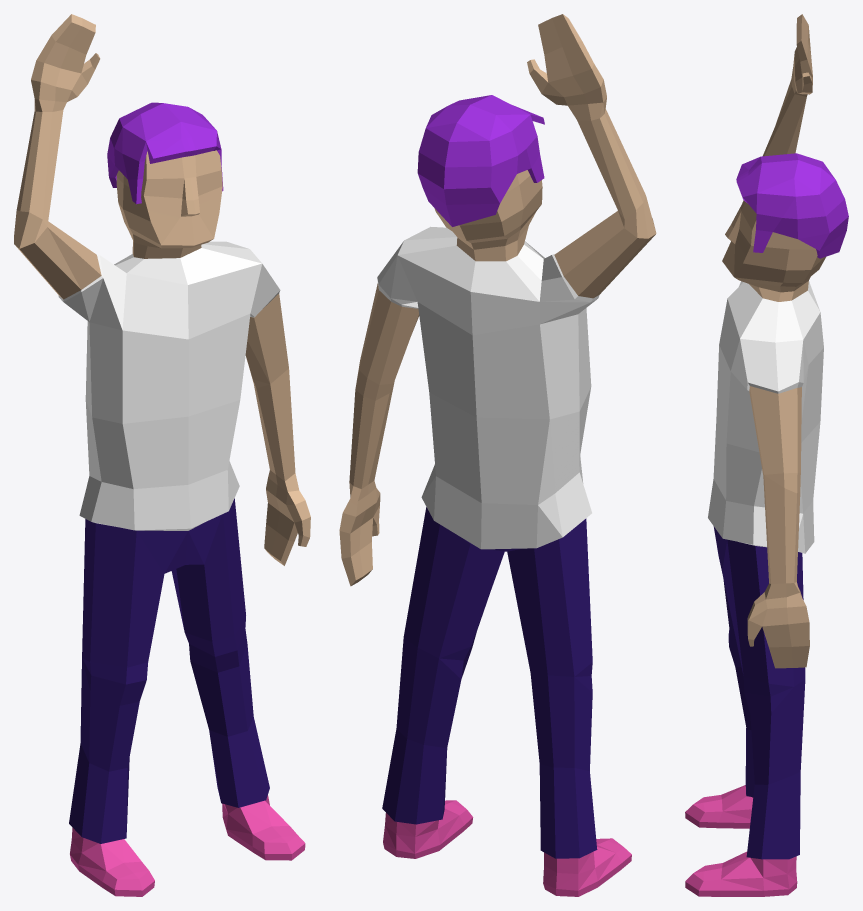
3 renders of one model, left to right at view 1: azimuth 30°, elevation 25°; view 2: azimuth 150°, elevation 25°; view 3: azimuth 270°, elevation 25°, orthographic. The views are drawn at different scales.
Visible parts, largest first — view 1: Male_Standing_Waving, Male_Hairstyle_2; view 2: Male_Standing_Waving, Male_Hairstyle_2; view 3: Male_Standing_Waving, Male_Hairstyle_2.
Boxes of the visible parts, x1,y1,x2,y2 form: Male_Standing_Waving: [14, 14, 310, 896]; Male_Hairstyle_2: [107, 102, 223, 204]; Male_Standing_Waving: [339, 14, 656, 896]; Male_Hairstyle_2: [417, 95, 544, 226]; Male_Standing_Waving: [685, 14, 825, 896]; Male_Hairstyle_2: [736, 153, 848, 258].
Bounding box in the file's own units: 1.57 × 4.47 × 0.8283.
